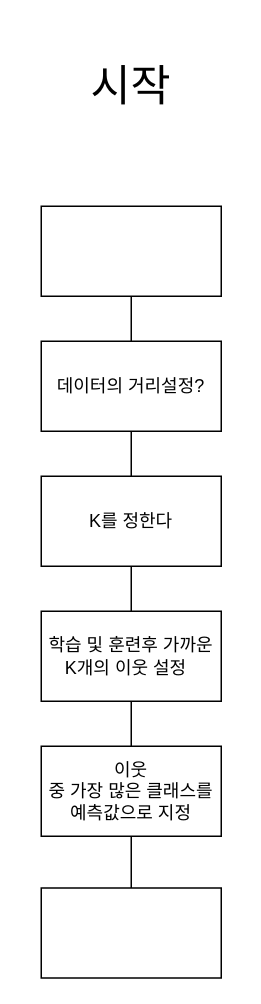
Image size: 261x1004. Some labels were removed from this diagram. Here are the shapes that lost their labels. From the top down, the centre of each, then its label:
At point 130,250: "데이터셋 불러오기 (Sklearn iris?)".
At point 130,932: "결과(클래스 또는 값)를 출력한다.".
